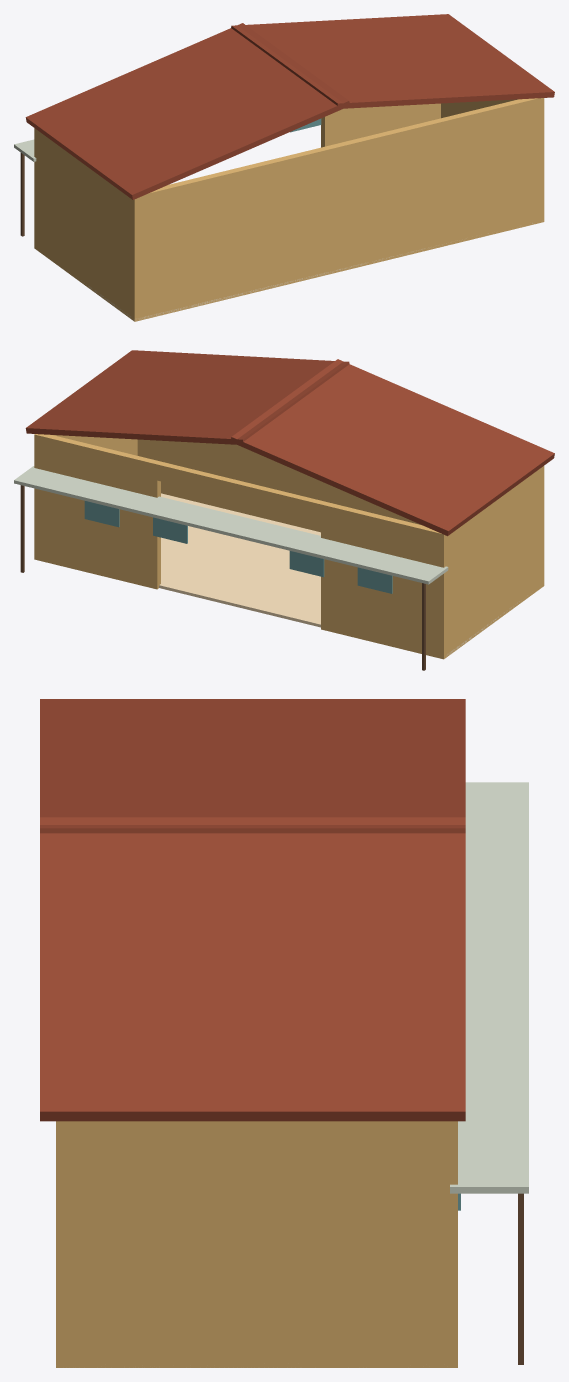
File: school.glb
3 renders of one model, top to bottom at view 1: azimuth 30°, elevation 25°; view 2: azimuth 150°, elevation 25°; view 3: azimuth 270°, elevation 25°, orthographic. The views are drawn at different scales.
Visible parts, largest first — view 1: _MeshInstance3D_380, _MeshInstance3D_396, _MeshInstance3D_397, _MeshInstance3D_383, _MeshInstance3D_392, _MeshInstance3D_386, _MeshInstance3D_398, _MeshInstance3D_400; view 2: _MeshInstance3D_396, _MeshInstance3D_397, _MeshInstance3D_392, _MeshInstance3D_389, _MeshInstance3D_383, _MeshInstance3D_398, _MeshInstance3D_399, _MeshInstance3D_380, _MeshInstance3D_395, _MeshInstance3D_386, _MeshInstance3D_402, _MeshInstance3D_403 (+3 smaller); view 3: _MeshInstance3D_397, _MeshInstance3D_386, _MeshInstance3D_396, _MeshInstance3D_399, _MeshInstance3D_380, _MeshInstance3D_392, _MeshInstance3D_401.
Boxes of the visible parts, x1,y1,x2,y2 form: _MeshInstance3D_380: (131,98,544,321); _MeshInstance3D_396: (25,23,349,199); _MeshInstance3D_397: (231,14,554,108); _MeshInstance3D_383: (36,129,141,321); _MeshInstance3D_392: (321,103,440,147); _MeshInstance3D_386: (441,98,537,118); _MeshInstance3D_398: (81,223,532,320); _MeshInstance3D_400: (20,153,24,236); _MeshInstance3D_396: (230,359,554,536); _MeshInstance3D_397: (25,350,349,444); _MeshInstance3D_392: (34,434,160,589); _MeshInstance3D_389: (321,501,447,659); _MeshInstance3D_383: (446,466,544,657); _MeshInstance3D_398: (159,493,529,656); _MeshInstance3D_399: (14,466,448,584); _MeshInstance3D_380: (137,439,543,532); _MeshInstance3D_395: (157,461,324,520); _MeshInstance3D_386: (53,435,137,455); _MeshInstance3D_402: (357,567,392,593); _MeshInstance3D_403: (289,551,324,577); _MeshInstance3D_397: (40,817,465,1121); _MeshInstance3D_386: (56,1121,449,1367); _MeshInstance3D_396: (40,699,465,833); _MeshInstance3D_399: (450,782,528,1193); _MeshInstance3D_380: (56,1121,71,1367); _MeshInstance3D_392: (446,1121,457,1367); _MeshInstance3D_401: (518,1193,523,1364).
Size of the model in its own units: 24.77 by 9.67 by 12.4.
